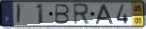1: (35, 3, 45, 26)
4: (115, 4, 130, 26)
A: (95, 4, 115, 25)
B: (54, 3, 71, 25)
I: (16, 3, 22, 25)
R: (72, 3, 91, 26)
